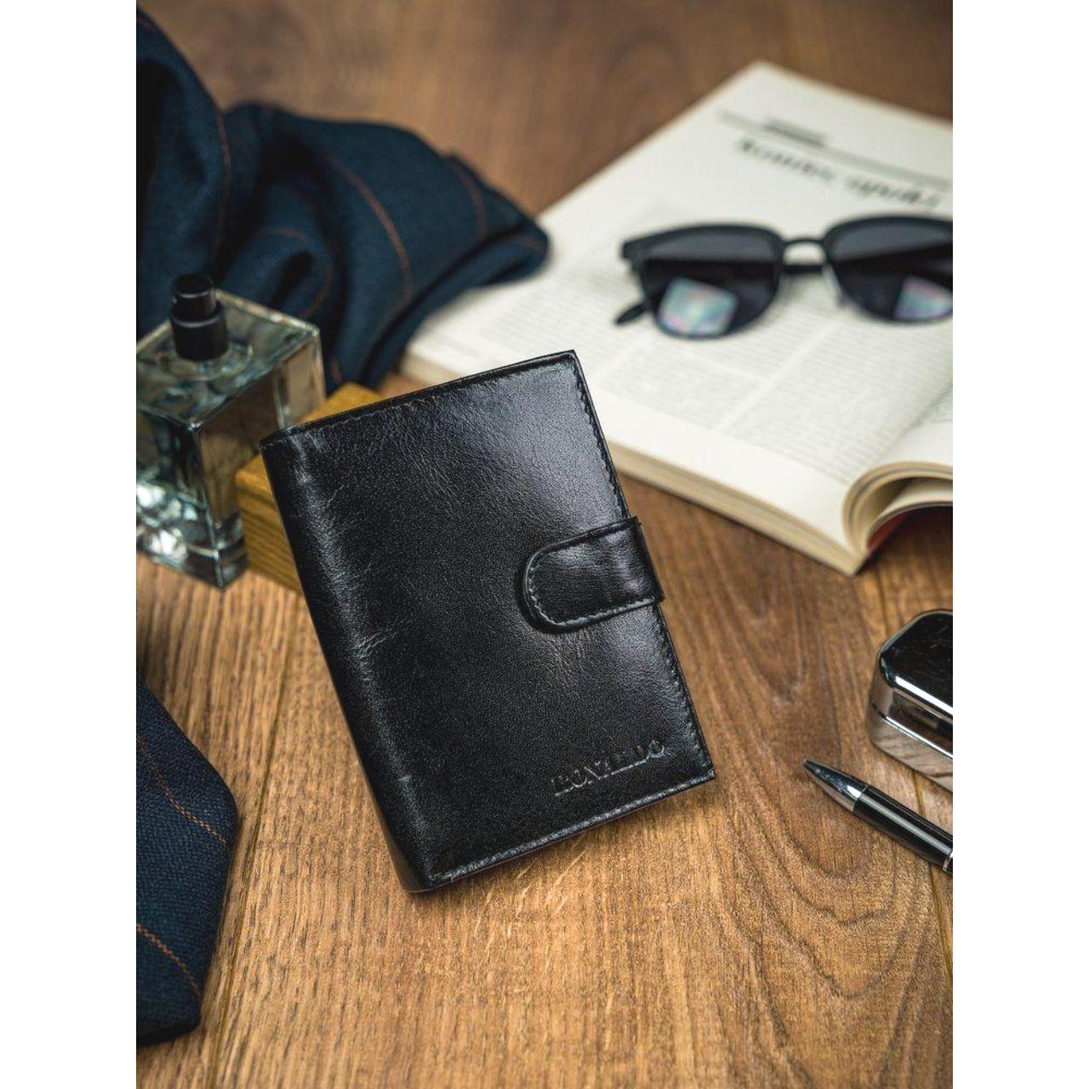wallet: (263, 330, 755, 881)
